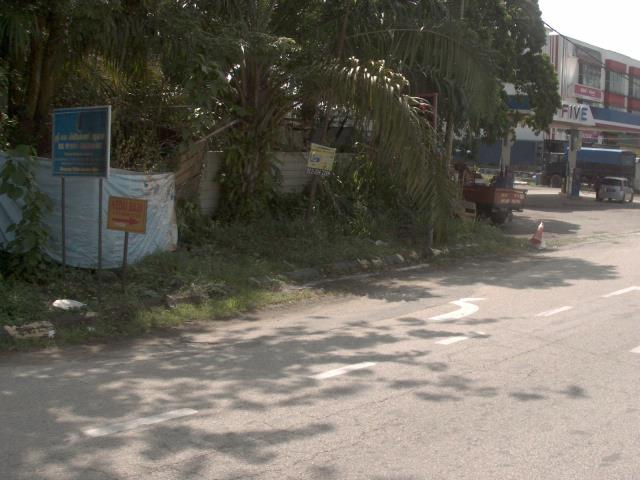ads_sign: (45, 100, 116, 181), (102, 189, 152, 238), (298, 137, 345, 184)
